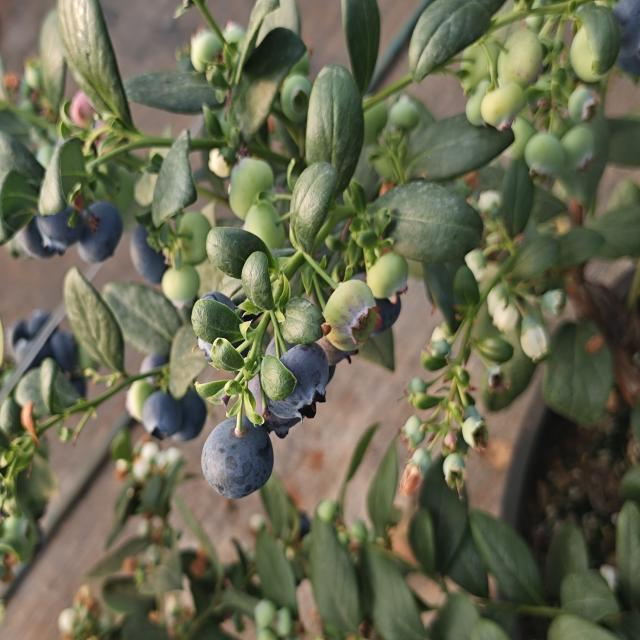ripe: (200, 412, 282, 511), (248, 334, 338, 424), (8, 186, 84, 262), (8, 309, 79, 378), (190, 288, 249, 362), (71, 190, 123, 270), (354, 268, 408, 342), (127, 208, 174, 291), (608, 0, 639, 94), (139, 388, 185, 444), (132, 341, 178, 388), (166, 388, 206, 441)
